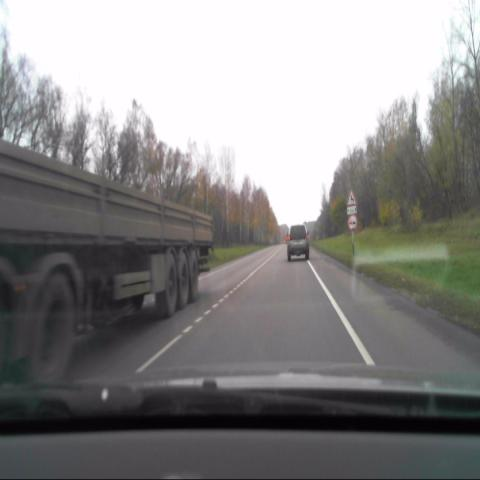1_27: (346, 189, 356, 206)
3_20: (347, 216, 357, 230)
